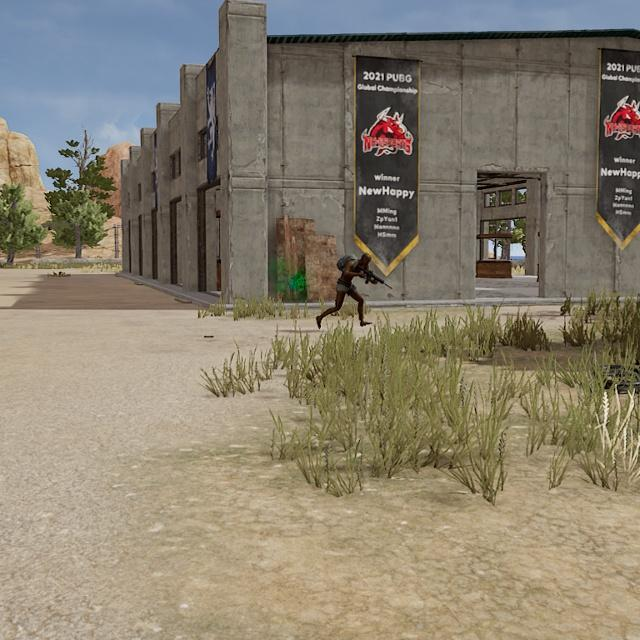head: (360, 252, 374, 268)
people: (315, 252, 377, 328)
